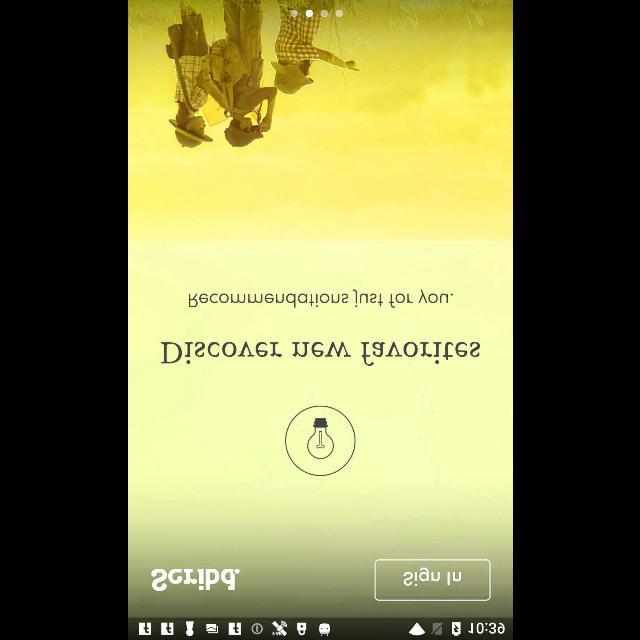backgroundimage: (128, 0, 512, 618)
image: (284, 406, 356, 476), (150, 568, 238, 592)
pageindicator: (290, 9, 342, 17)
text: (160, 342, 480, 366), (188, 289, 452, 309)
textbutton: (374, 559, 490, 601)
uppertaskbar: (128, 617, 512, 639)
